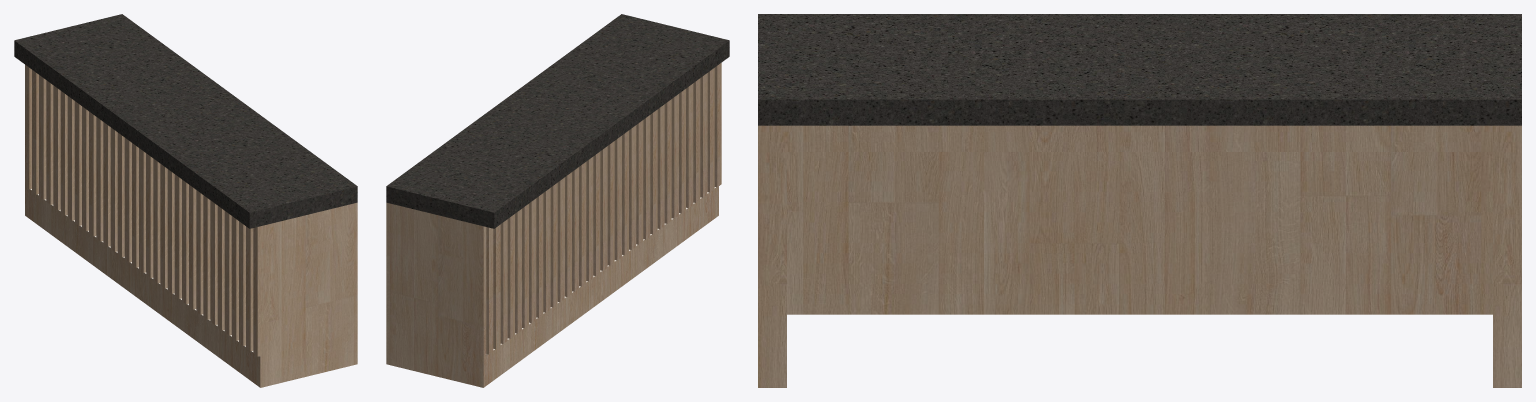
The model's file is uploads_files_4419455_bar2016.fbx.
3 renders of one model, left to right at view 1: azimuth 30°, elevation 25°; view 2: azimuth 150°, elevation 25°; view 3: azimuth 270°, elevation 25°, orthographic. The views are drawn at different scales.
Visible parts, largest first — view 1: Group1, Group5, Group3, Group7, Group6; view 2: Group1, Group5, Group3, Group6, Group7; view 3: Group3, Group1.
Boxes of the visible parts, box(x1,y1,x2,y2) form: Group1: box(14, 14, 357, 228); Group5: box(25, 65, 245, 345); Group3: box(25, 101, 357, 387); Group7: box(253, 226, 260, 356); Group6: box(246, 226, 253, 351); Group1: box(386, 14, 729, 228); Group5: box(485, 73, 707, 354); Group3: box(386, 73, 718, 387); Group6: box(707, 68, 714, 192); Group7: box(714, 63, 721, 187); Group3: box(758, 125, 1521, 387); Group1: box(758, 14, 1521, 125).
Size of the model in its own units: 0.7 by 1.1 by 2.64.
